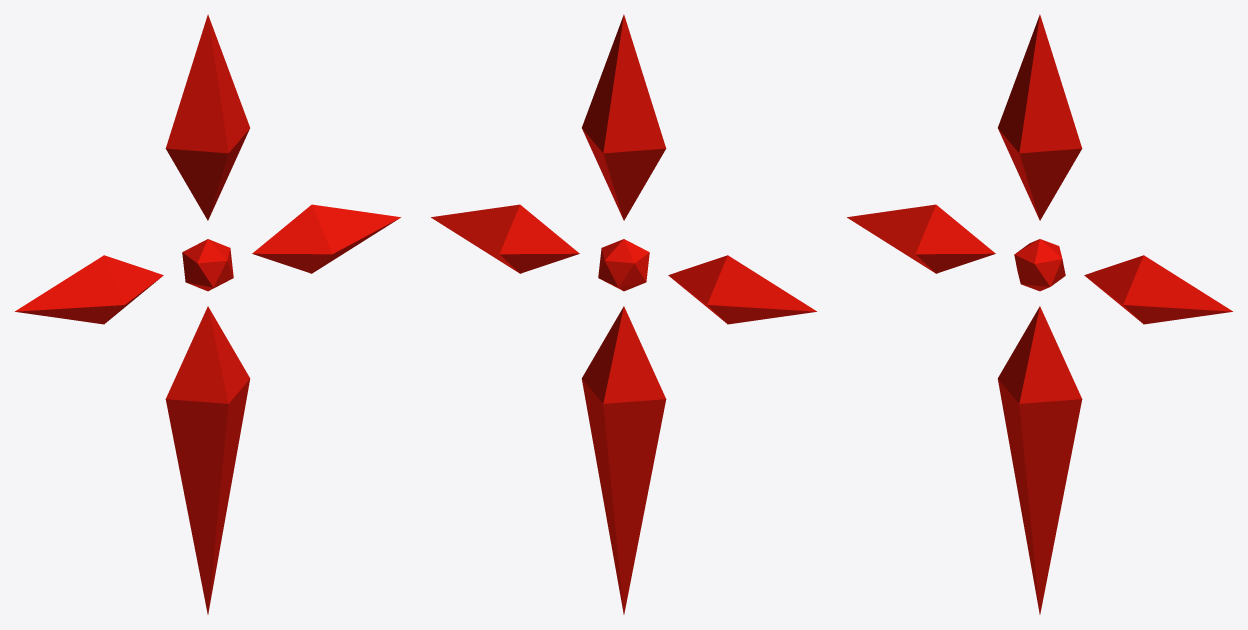
Rendered from TargetCursor.fbx.
The picture shows the model from 3 angles, left to right: view 1: azimuth 30°, elevation 25°; view 2: azimuth 150°, elevation 25°; view 3: azimuth 330°, elevation 25°; orthographic projection.
Visible parts, largest first — view 1: Icosphere; view 2: Icosphere; view 3: Icosphere.
Boxes of the visible parts, x1,y1,x2,y2 form: Icosphere: (15,14,400,614); Icosphere: (431,14,816,614); Icosphere: (847,14,1232,614).
Bounding box in the file's own units: 9.43 × 14.01 × 1.74.
